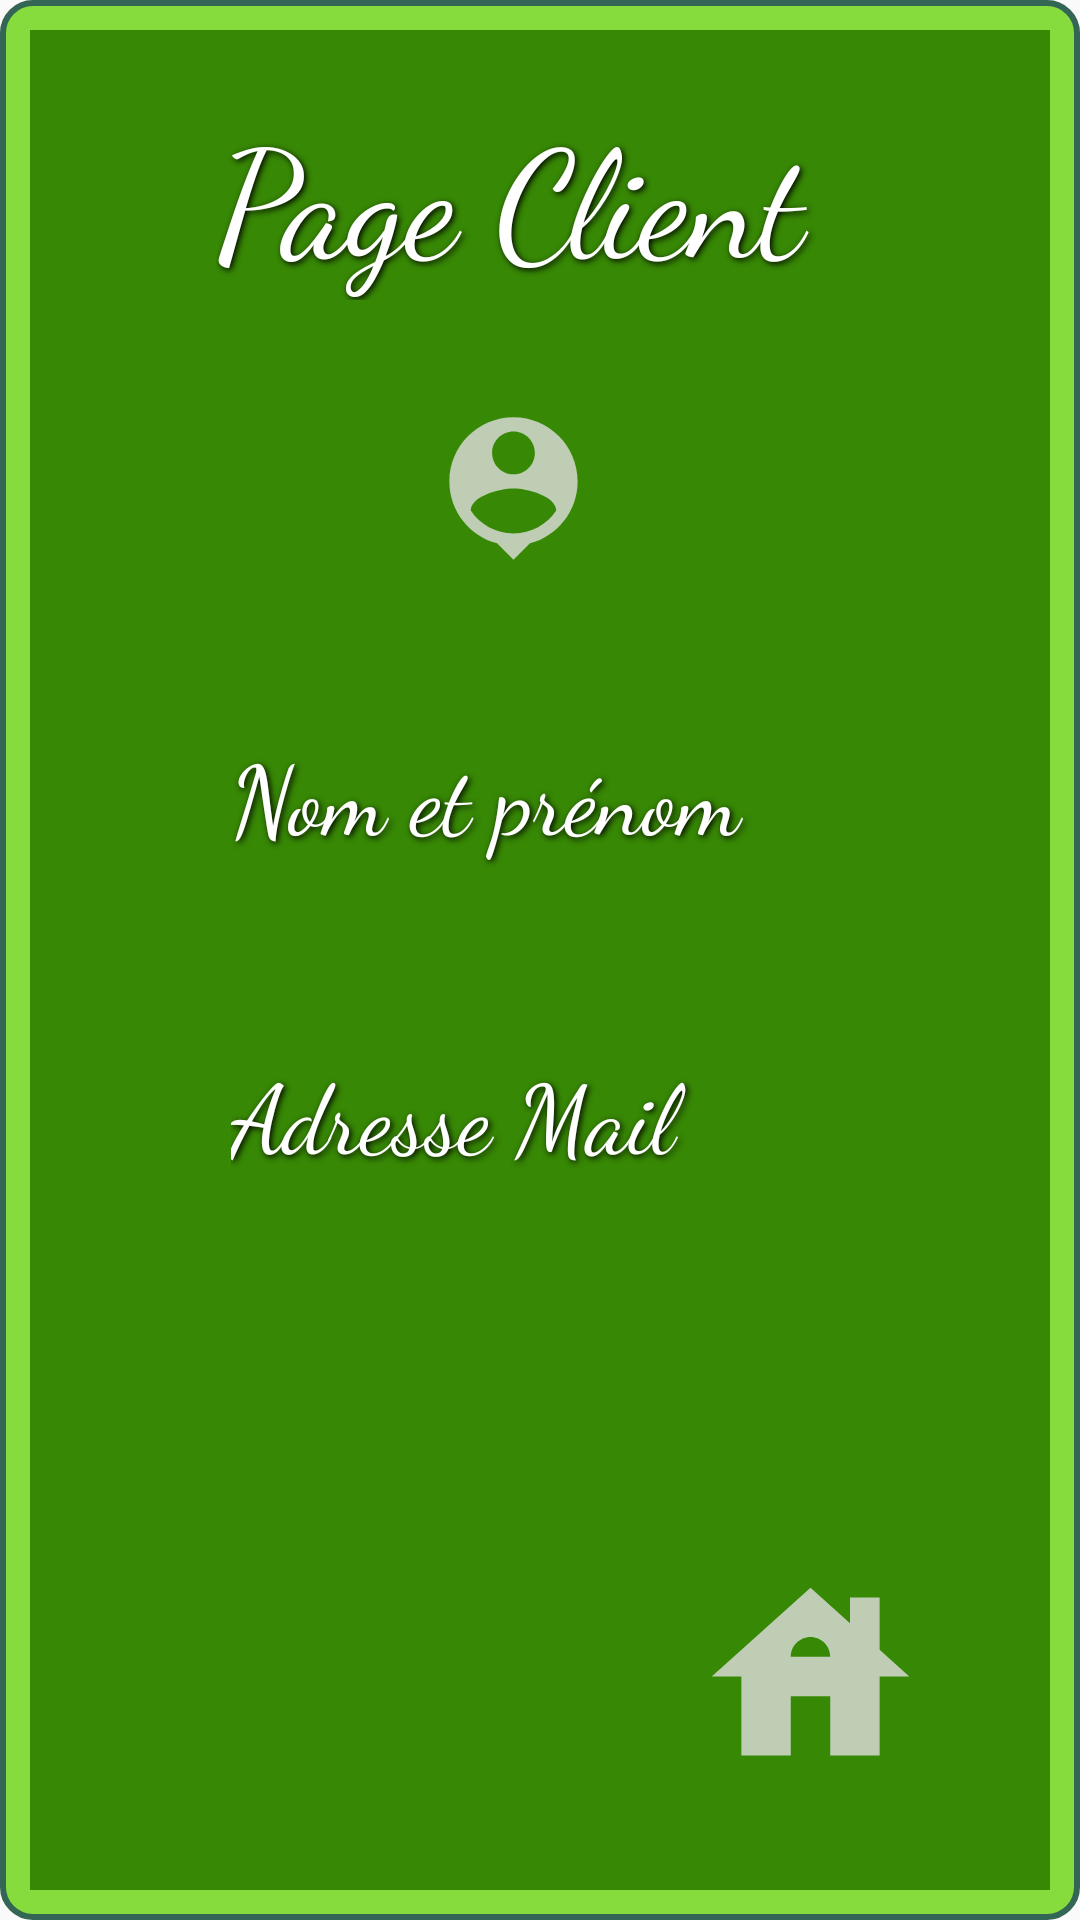

Named icons in this screenshot (1080x1920) and their centers, (x,y):
house: (810,1672)
